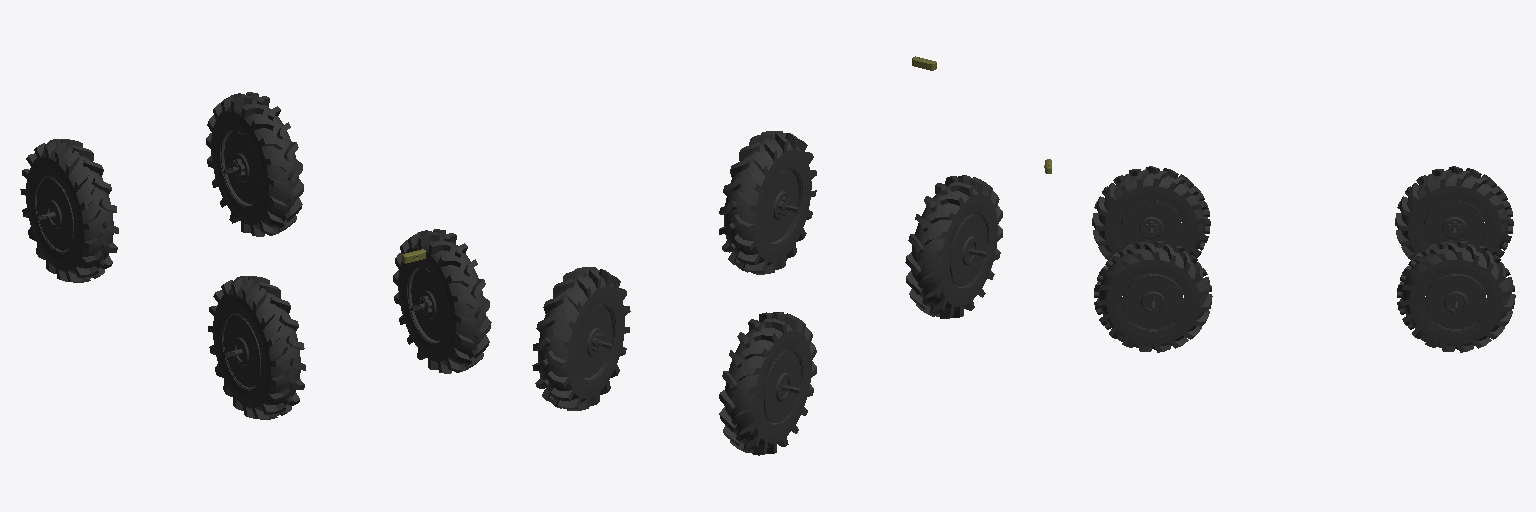
robot.urdf — amiga_model:
<?xml version="1.0" encoding="utf-8"?>
<robot name="amiga_model">
  <link name="base_link">
    <inertial>
      <origin xyz="0.587273529285794 0.348616943505135 0.78377642743606" rpy="0 0 0" />
      <mass value="86.4440274940804" />
      <inertia ixx="14.1409037526016" ixy="0.00100506323760924" ixz="0.000100431046158627" iyy="5.14210683138064" iyz="-0.00184999725161878" izz="18.8095118788223" />
    </inertial>
    <visual>
      <origin xyz="0 0 0" rpy="0 0 0" />
      <geometry>
        <mesh filename="package://amiga_sim/meshes/base_link.STL" />
      </geometry>
      <material name="">
        <color rgba="0.674509803921569 0.709803921568627 0.737254901960784 1" />
      </material>
    </visual>
    <collision>
      <origin xyz="0 0 0" rpy="0 0 0" />
      <geometry>
        <mesh filename="package://amiga_sim/meshes/base_link.STL" />
      </geometry>
    </collision>
  </link>
  <link name="br_wheel_link">
    <inertial>
      <origin xyz="-1.5872E-07 -0.396 -0.00037222" rpy="0 0 0" />
      <mass value="5.9095" />
      <inertia ixx="0.064219" ixy="9.3894E-07" ixz="-6.5889E-08" iyy="0.064218" iyz="-3.839E-08" izz="0.1164" />
    </inertial>
    <visual>
      <origin xyz="0 0.4 0" rpy="0 0 0" />
      <geometry>
        <mesh filename="package://amiga_sim/meshes/br_wheel_link.STL" />
      </geometry>
      <material name="">
        <color rgba="0.25 0.25 0.25 1" />
      </material>
    </visual>
    <collision>
      <origin xyz="0 0.4 0" rpy="0 0 0" />
      <geometry>
        <mesh filename="package://amiga_sim/meshes/br_wheel_link.STL" />
      </geometry>
    </collision>
  </link>
  <joint name="br_wheel_joint" type="continuous">
    <origin xyz="0.91244 -0.14953 0.42506" rpy="1.5708 0 1.5708" />
    <parent link="base_link" />
    <child link="br_wheel_link" />
    <axis xyz="0 0 -1" />
    <dynamics damping="0.1" friction="1" />
  </joint>
  <link name="bl_wheel_link">
    <inertial>
      <origin xyz="-1.587E-07 0.396 0.00037222" rpy="0 0 0" />
      <mass value="5.9095" />
      <inertia ixx="0.064219" ixy="-9.3894E-07" ixz="6.5889E-08" iyy="0.064218" iyz="-3.839E-08" izz="0.1164" />
    </inertial>
    <visual>
      <origin xyz="0 -0.4 0" rpy="0 0 0" />
      <geometry>
        <mesh filename="package://amiga_sim/meshes/bl_wheel_link.STL" />
      </geometry>
      <material name="">
        <color rgba="0.25 0.25 0.25 1" />
      </material>
    </visual>
    <collision>
      <origin xyz="0 -0.4 0" rpy="0 0 0" />
      <geometry>
        <mesh filename="package://amiga_sim/meshes/bl_wheel_link.STL" />
      </geometry>
    </collision>
  </link>
  <joint name="bl_wheel_joint" type="continuous">
    <origin xyz="0.27384 -0.15588 0.42506" rpy="-1.5708 0 -1.5708" />
    <parent link="base_link" />
    <child link="bl_wheel_link" />
    <axis xyz="0 0 -1" />
    <dynamics damping="0.1" friction="1" />
  </joint>
  <link name="fl_wheel_link">
    <inertial>
      <origin xyz="-1.6171E-07 0.396 0.00037222" rpy="0 0 0" />
      <mass value="5.9095" />
      <inertia ixx="0.064219" ixy="-9.4004E-07" ixz="6.5887E-08" iyy="0.064218" iyz="-3.8393E-08" izz="0.1164" />
    </inertial>
    <visual>
      <origin xyz="0 -0.4 0" rpy="0 0 0" />
      <geometry>
        <mesh filename="package://amiga_sim/meshes/fl_wheel_link.STL" />
      </geometry>
      <material name="">
        <color rgba="0.25 0.25 0.25 1" />
      </material>
    </visual>
    <collision>
      <origin xyz="0 -0.4 0" rpy="0 0 0" />
      <geometry>
        <mesh filename="package://amiga_sim/meshes/fl_wheel_link.STL" />
      </geometry>
    </collision>
  </link>
  <joint name="fl_wheel_joint" type="continuous">
    <origin xyz="0.27384 0.94812 0.42506" rpy="-1.5708 0 -1.5708" />
    <parent link="base_link" />
    <child link="fl_wheel_link" />
    <axis xyz="0 0 -1" />
    <dynamics damping="0.1" friction="1" />
  </joint>
  <link name="fr_wheel_link">
    <inertial>
      <origin xyz="-1.5843E-07 -0.396 -0.00037222" rpy="0 0 0" />
      <mass value="5.9095" />
      <inertia ixx="0.064219" ixy="9.3904E-07" ixz="-6.5889E-08" iyy="0.064218" iyz="-3.839E-08" izz="0.1164" />
    </inertial>
    <visual>
      <origin xyz="0 0.4 0" rpy="0 0 0" />
      <geometry>
        <mesh filename="package://amiga_sim/meshes/fr_wheel_link.STL" />
      </geometry>
      <material name="">
        <color rgba="0.25 0.25 0.25 1" />
      </material>
    </visual>
    <collision>
      <origin xyz="0 0.4 0" rpy="0 0 0" />
      <geometry>
        <mesh filename="package://amiga_sim/meshes/fr_wheel_link.STL" />
      </geometry>
    </collision>
  </link>
  <joint name="fr_wheel_joint" type="continuous">
    <origin xyz="0.91244 0.95447 0.42506" rpy="1.5708 0 1.5708" />
    <parent link="base_link" />
    <child link="fr_wheel_link" />
    <axis xyz="0 0 -1" />
    <dynamics damping="0.1" friction="1" />
  </joint>
  <link name="back_camera_link">
    <inertial>
      <origin xyz="6.6589E-05 -0.00019845 0.009929" rpy="0 0 0" />
      <mass value="0.016241" />
      <inertia
        ixx="1.5727E-06"
        ixy="-3.4747E-10"
        ixz="9.7453E-09"
        iyy="9.1694E-06"
        iyz="9.4633E-09"
        izz="1.003E-05" />
    </inertial>
    <visual>
      <origin xyz="0 0 0" rpy="0 0 0" />
      <geometry>
        <mesh filename="package://amiga_sim/meshes/back_camera_link.STL" />
      </geometry>
      <material name="">
        <color rgba="0.45 0.45 0.25 1" />
      </material>
    </visual>
    <collision>
      <origin xyz="0 0 0" rpy="0 0 0" />
      <geometry>
        <mesh
          filename="package://amiga_sim/meshes/back_camera_link.STL" />
      </geometry>
    </collision>
  </link>
  <joint name="back_camera_joint" type="fixed">
    <origin xyz="0.59464 -0.53003 0.81286" rpy="-3.1416 0 3.1416" />
    <parent link="base_link" />
    <child link="back_camera_link" />
    <axis xyz="0 0 0" />
  </joint>

  <gazebo>
    <plugin name="gazebo_ros_control" filename="libgazebo_ros_control.so"/>
  </gazebo>
  <transmission name="br_wheel_joint_trans">
    <type>transmission_interface/SimpleTransmission</type>
    <joint name="br_wheel_joint">
      <hardwareInterface>hardware_interface/EffortJointInterface</hardwareInterface>
    </joint>
    <actuator name="br_wheel_joint_motor">
      <hardwareInterface>hardware_interface/EffortJointInterface</hardwareInterface>
      <mechanicalReduction>1</mechanicalReduction>
    </actuator>
  </transmission>
  <transmission name="bl_wheel_joint_trans">
    <type>transmission_interface/SimpleTransmission</type>
    <joint name="bl_wheel_joint">
      <hardwareInterface>hardware_interface/EffortJointInterface</hardwareInterface>
    </joint>
    <actuator name="bl_wheel_joint_motor">
      <hardwareInterface>hardware_interface/EffortJointInterface</hardwareInterface>
      <mechanicalReduction>1</mechanicalReduction>
    </actuator>
  </transmission>
  <transmission name="fl_wheel_joint_trans">
    <type>transmission_interface/SimpleTransmission</type>
    <joint name="fl_wheel_joint">
      <hardwareInterface>hardware_interface/EffortJointInterface</hardwareInterface>
    </joint>
    <actuator name="fl_wheel_joint_motor">
      <hardwareInterface>hardware_interface/EffortJointInterface</hardwareInterface>
      <mechanicalReduction>1</mechanicalReduction>
    </actuator>
  </transmission>
  <transmission name="fr_wheel_joint_trans">
    <type>transmission_interface/SimpleTransmission</type>
    <joint name="fr_wheel_joint">
      <hardwareInterface>hardware_interface/EffortJointInterface</hardwareInterface>
    </joint>
    <actuator name="fr_wheel_joint_motor">
      <hardwareInterface>hardware_interface/EffortJointInterface</hardwareInterface>
      <mechanicalReduction>1</mechanicalReduction>
    </actuator>
  </transmission>
  <gazebo reference="br_wheel_link">
    <material>Gazebo/Grey</material>
  </gazebo>
  <gazebo reference="bl_wheel_link">
    <material>Gazebo/Grey</material>
  </gazebo>
  <gazebo reference="fl_wheel_link">
    <material>Gazebo/Grey</material>
  </gazebo>
  <gazebo reference="fr_wheel_link">
    <material>Gazebo/Grey</material>
  </gazebo>
  <gazebo reference="back_camera_link">
    <material>Gazebo/Grey</material>
    <sensor type="depth" name="oak_d_w_stereo">
      <pose>0 0 0.02 1.5708 -1.5708 0</pose>
      <camera name="stereo">
        <horizontal_fov>2.23</horizontal_fov> <!-- ~128° HFOV -->
        <image>
          <width>1280</width>
          <height>800</height>
          <format>R8G8B8</format>
        </image>
        <clip>
          <near>0.37</near> <!-- matches MinZ spec -->
          <far>6.0</far>    <!-- matches ideal depth range -->
        </clip>
      </camera>
      <plugin name="oak_d_w_depth" filename="libgazebo_ros_depth_camera.so">
        <always_on>true</always_on>
        <update_rate>30.0</update_rate>
        <cameraName>camera_back/oak_depth</cameraName>
        <frame_name>back_camera_link</frame_name>
        <depth_image_topic_name>image_raw</depth_image_topic_name>
        <camera_info_topic_name>camera_info</camera_info_topic_name>
      </plugin>
    </sensor>
    <visualize>true</visualize>
  </gazebo>
</robot>

--- What the picture shows (computed from the rendered views, not written in the file) ---
Views: 3 orthographic renders of the robot side by side, from view 1: azimuth 30°, elevation 25°; view 2: azimuth 150°, elevation 25°; view 3: azimuth 270°, elevation 25°.
Model amiga_model with 6 links and 5 joints (4 continuous, 1 fixed), rooted at base_link, posed every joint at zero.
Visible links, largest first — view 1: bl_wheel_link, fl_wheel_link, fr_wheel_link, br_wheel_link; view 2: bl_wheel_link, br_wheel_link, fr_wheel_link, fl_wheel_link; view 3: fr_wheel_link, br_wheel_link, bl_wheel_link, fl_wheel_link.
Boxes of the visible links, x1,y1,x2,y2 form: bl_wheel_link: (208, 276, 305, 419); fl_wheel_link: (20, 139, 118, 282); fr_wheel_link: (206, 92, 303, 236); br_wheel_link: (393, 229, 491, 373); bl_wheel_link: (905, 175, 1002, 318); br_wheel_link: (719, 131, 816, 274); fr_wheel_link: (532, 267, 630, 410); fl_wheel_link: (719, 312, 816, 455); fr_wheel_link: (1397, 240, 1515, 352); br_wheel_link: (1094, 240, 1212, 352); bl_wheel_link: (1092, 166, 1210, 259); fl_wheel_link: (1395, 166, 1513, 259).
Bounding box of the posed robot: 0.854 × 1.72 × 0.6044 m (x, y, z).
Meshes: 6 distinct files referenced, 5 mesh visuals loaded (5 binary STL); not drawn: 1 (reference not matched to a file when rendering).
